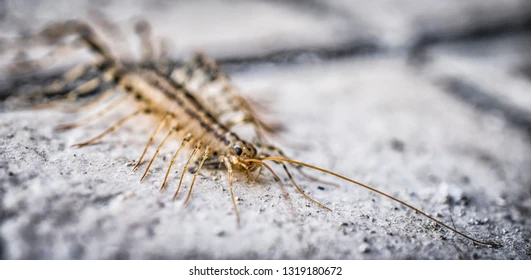centipede: (32, 22, 371, 234)
